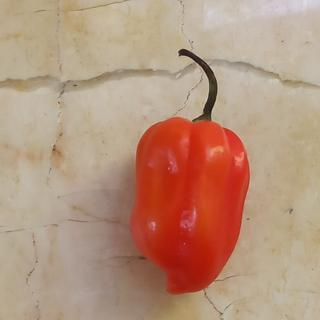Grade-A: (130, 118, 252, 300)
